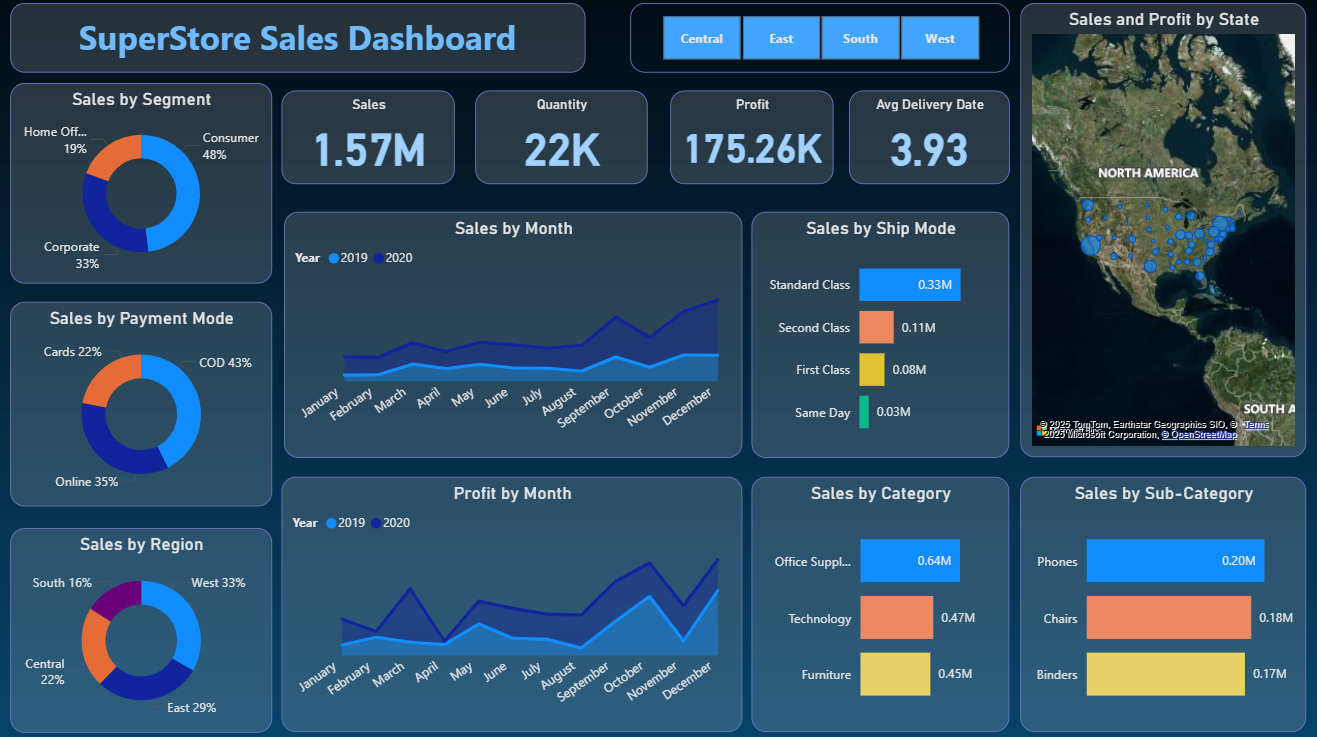

What the dashboard file says about the page in this screenshot:
{"tool":"powerbi","page":{"name":"Page 1","canvas":[1280,720],"ordinal":0},"visuals":[{"type":"barChart","title":"Sales by Category","fields":{"Category":["SuperStore_Sales_Dataset.Category"],"Y":["Sum(SuperStore_Sales_Dataset.Sales)"]},"box":[731.2,462.5,248.8,246.2],"z":0},{"type":"barChart","title":"Sales by Sub-Category","fields":{"Category":["SuperStore_Sales_Dataset.Sub-Category"],"Y":["Sum(SuperStore_Sales_Dataset.Sales)"]},"box":[990,462.5,276.2,246.2],"z":1000},{"type":"barChart","title":"Sales by Ship Mode","fields":{"Category":["SuperStore_Sales_Dataset.Ship Mode"],"Y":["Sum(SuperStore_Sales_Dataset.Sales)"]},"box":[731.2,206.2,248.8,237.5],"z":2000},{"type":"stackedAreaChart","title":"Sales by Month","fields":{"Category":["SuperStore_Sales_Dataset.Order Date.Variation.Date Hierarchy.Month","SuperStore_Sales_Dataset.Order Date.Variation.Date Hierarchy.Day"],"Y":["Sum(SuperStore_Sales_Dataset.Sales)"],"Series":["SuperStore_Sales_Dataset.Order Date.Variation.Date Hierarchy.Year"]},"box":[280,206.2,442.5,237.5],"z":3000},{"type":"stackedAreaChart","title":"Profit by Month","fields":{"Category":["SuperStore_Sales_Dataset.Order Date.Variation.Date Hierarchy.Month","SuperStore_Sales_Dataset.Order Date.Variation.Date Hierarchy.Day"],"Series":["SuperStore_Sales_Dataset.Order Date.Variation.Date Hierarchy.Year"],"Y":["Sum(SuperStore_Sales_Dataset.Profit)"]},"box":[277.5,462.5,445,246.2],"z":4000},{"type":"map","title":"Sales and Profit by State","fields":{"Category":["SuperStore_Sales_Dataset.State"],"Size":["Sum(SuperStore_Sales_Dataset.Sales)"]},"box":[990,5,276.2,438.8],"z":5000},{"type":"donutChart","title":"Sales by Segment","fields":{"Category":["SuperStore_Sales_Dataset.Segment"],"Y":["Sum(SuperStore_Sales_Dataset.Sales)"]},"box":[16.2,82.5,252.5,193.8],"z":6000},{"type":"donutChart","title":"Sales by Payment Mode","fields":{"Category":["SuperStore_Sales_Dataset.Payment Mode","SuperStore_Sales_Dataset.Segment"],"Y":["Sum(SuperStore_Sales_Dataset.Sales)"]},"box":[16.2,293.8,252.5,197.5],"z":7000},{"type":"slicer","fields":{"Values":["SuperStore_Sales_Dataset.Region"]},"box":[613.8,5,366.2,67.5],"z":8000},{"type":"textbox","box":[16.2,5,555,67.5],"z":9000},{"type":"card","title":"Sales","fields":{"Values":["Sum(SuperStore_Sales_Dataset.Sales)"]},"box":[277.5,88.8,167.5,90],"z":10000},{"type":"card","title":"Quantity","fields":{"Values":["Sum(SuperStore_Sales_Dataset.Quantity)"]},"box":[465,88.8,166.2,90],"z":11000},{"type":"card","title":"Profit","fields":{"Values":["Sum(SuperStore_Sales_Dataset.Profit)"]},"box":[652.5,88.8,157.5,90],"z":12000},{"type":"card","title":"Avg Delivery Date","fields":{"Values":["Avg(SuperStore_Sales_Dataset.AvgDelivery)"]},"box":[825,88.8,155,90],"z":13000},{"type":"donutChart","title":"Sales by Region","fields":{"Category":["SuperStore_Sales_Dataset.Region"],"Y":["Sum(SuperStore_Sales_Dataset.Sales)"]},"box":[16.2,511.2,252.5,197.5],"z":14000}]}

Visuals, with their boxes in screenshot pixels (x1, y1, x2, y2), scaled from the page's 1280x720 canvas onto the 1317x737 screenshot:
"Sales by Category" barChart: BBox(752, 473, 1008, 725)
"Sales by Sub-Category" barChart: BBox(1019, 473, 1303, 725)
"Sales by Ship Mode" barChart: BBox(752, 211, 1008, 454)
"Sales by Month" stackedAreaChart: BBox(288, 211, 743, 454)
"Profit by Month" stackedAreaChart: BBox(286, 473, 743, 725)
"Sales and Profit by State" map: BBox(1019, 5, 1303, 454)
"Sales by Segment" donutChart: BBox(17, 84, 276, 283)
"Sales by Payment Mode" donutChart: BBox(17, 301, 276, 503)
slicer - SuperStore_Sales_Dataset.Region: BBox(632, 5, 1008, 74)
textbox: BBox(17, 5, 588, 74)
"Sales" card: BBox(286, 91, 458, 183)
"Quantity" card: BBox(478, 91, 649, 183)
"Profit" card: BBox(671, 91, 833, 183)
"Avg Delivery Date" card: BBox(849, 91, 1008, 183)
"Sales by Region" donutChart: BBox(17, 523, 276, 725)
